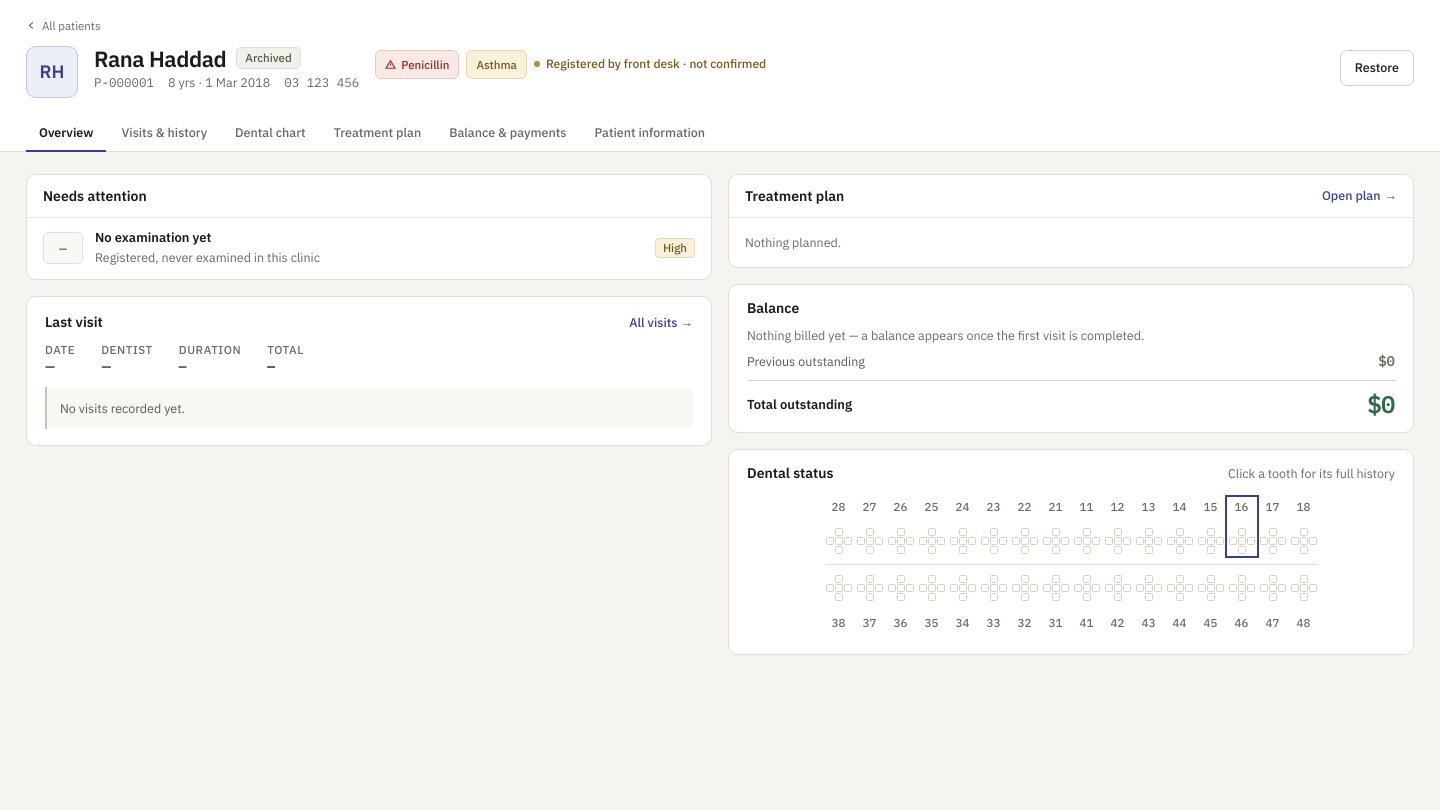
Test: ToothHistoryDialog › offers no "Start a visit" on an archived record
Check: the heading "Rana Haddad" is shown, box [94, 46, 226, 71]
What coordinates should you click on to do the following:
click the button named "#16 · "
I would click on:
 (1242, 527)
Its box is [1228, 498, 1256, 556].
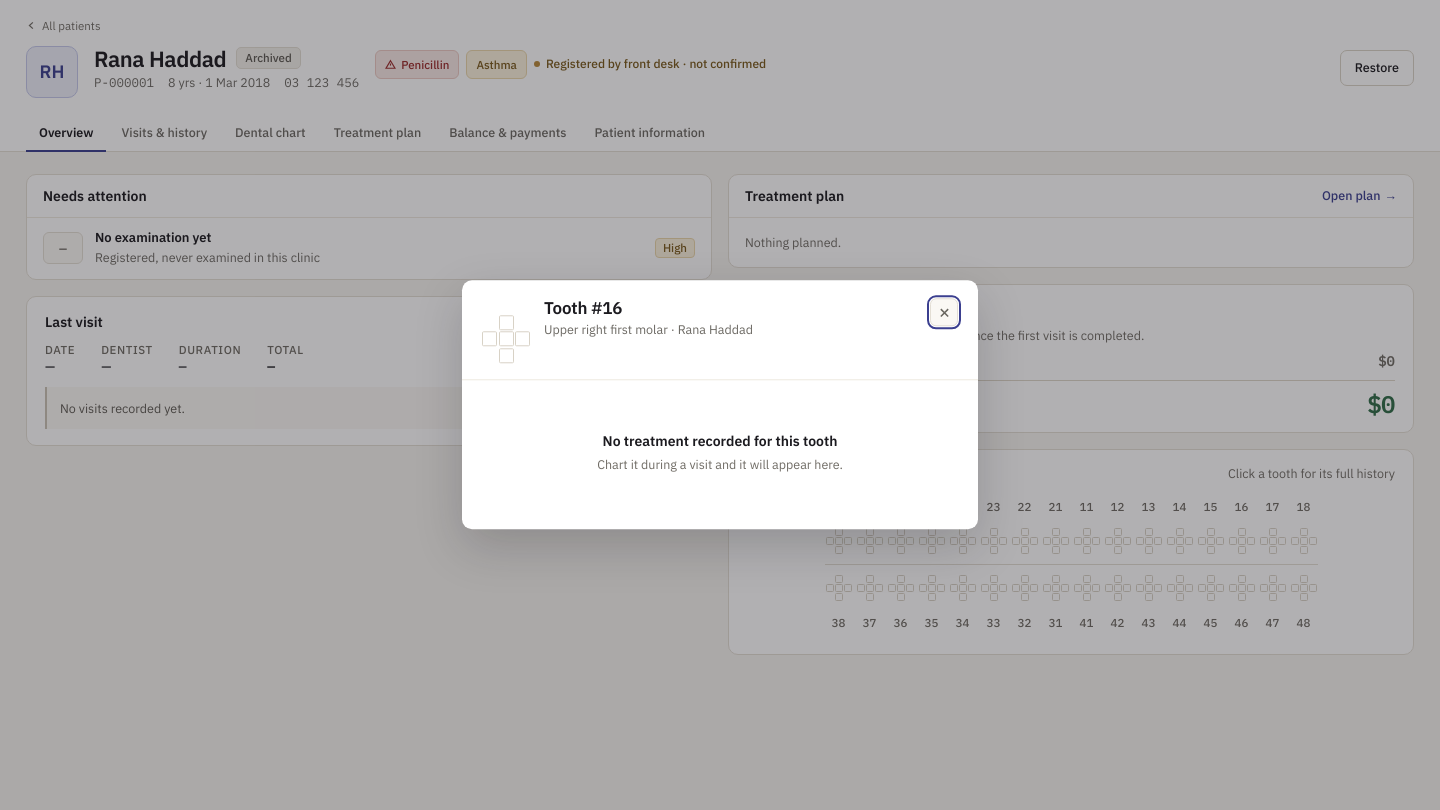
Check: the heading "No treatment recorded for this tooth" is shown, box [603, 432, 837, 450]
